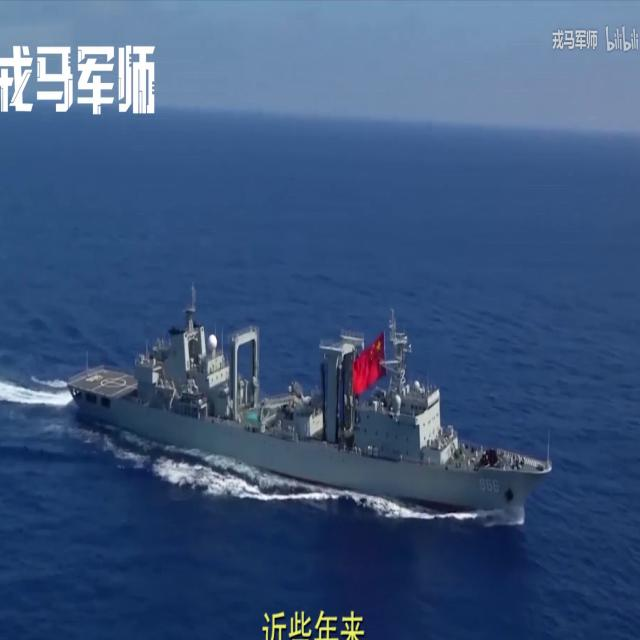navalvessels: (70, 278, 557, 510)
